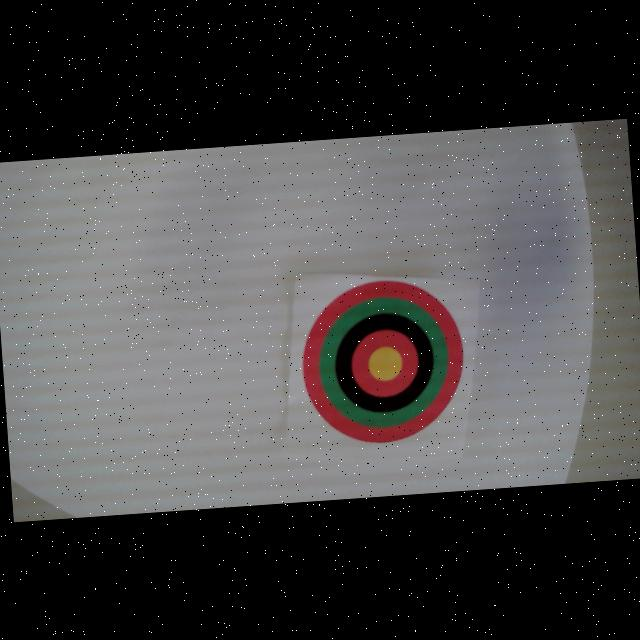COGNITIVE: (296, 274, 469, 449)
